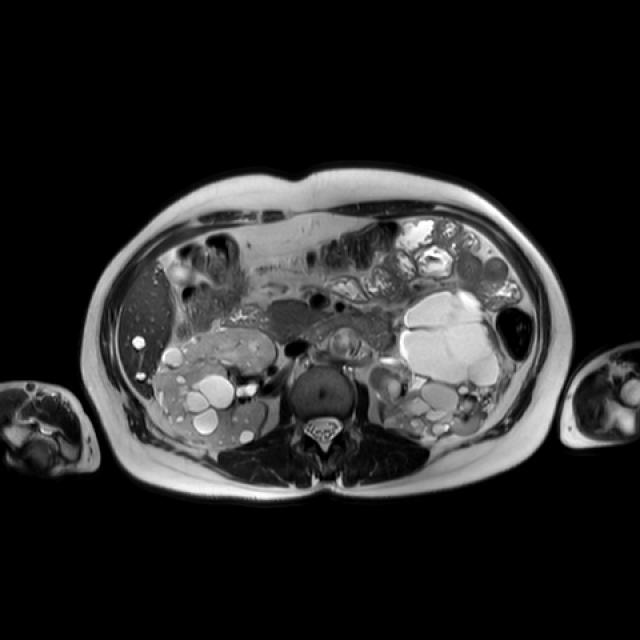sag: (156, 330, 278, 448)
sol: (369, 289, 509, 437)
